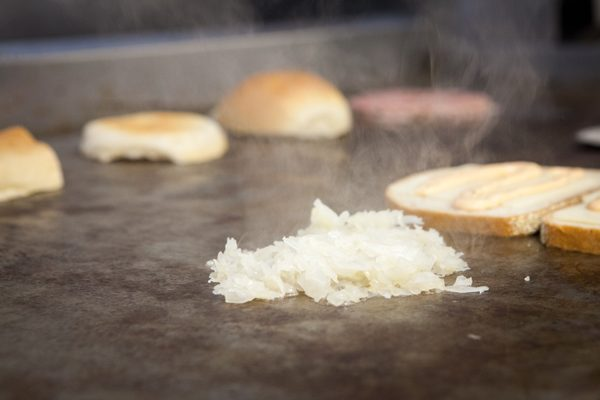salad: (213, 66, 354, 141), (78, 110, 230, 165), (0, 123, 65, 207)
sushi: (384, 159, 599, 237)
